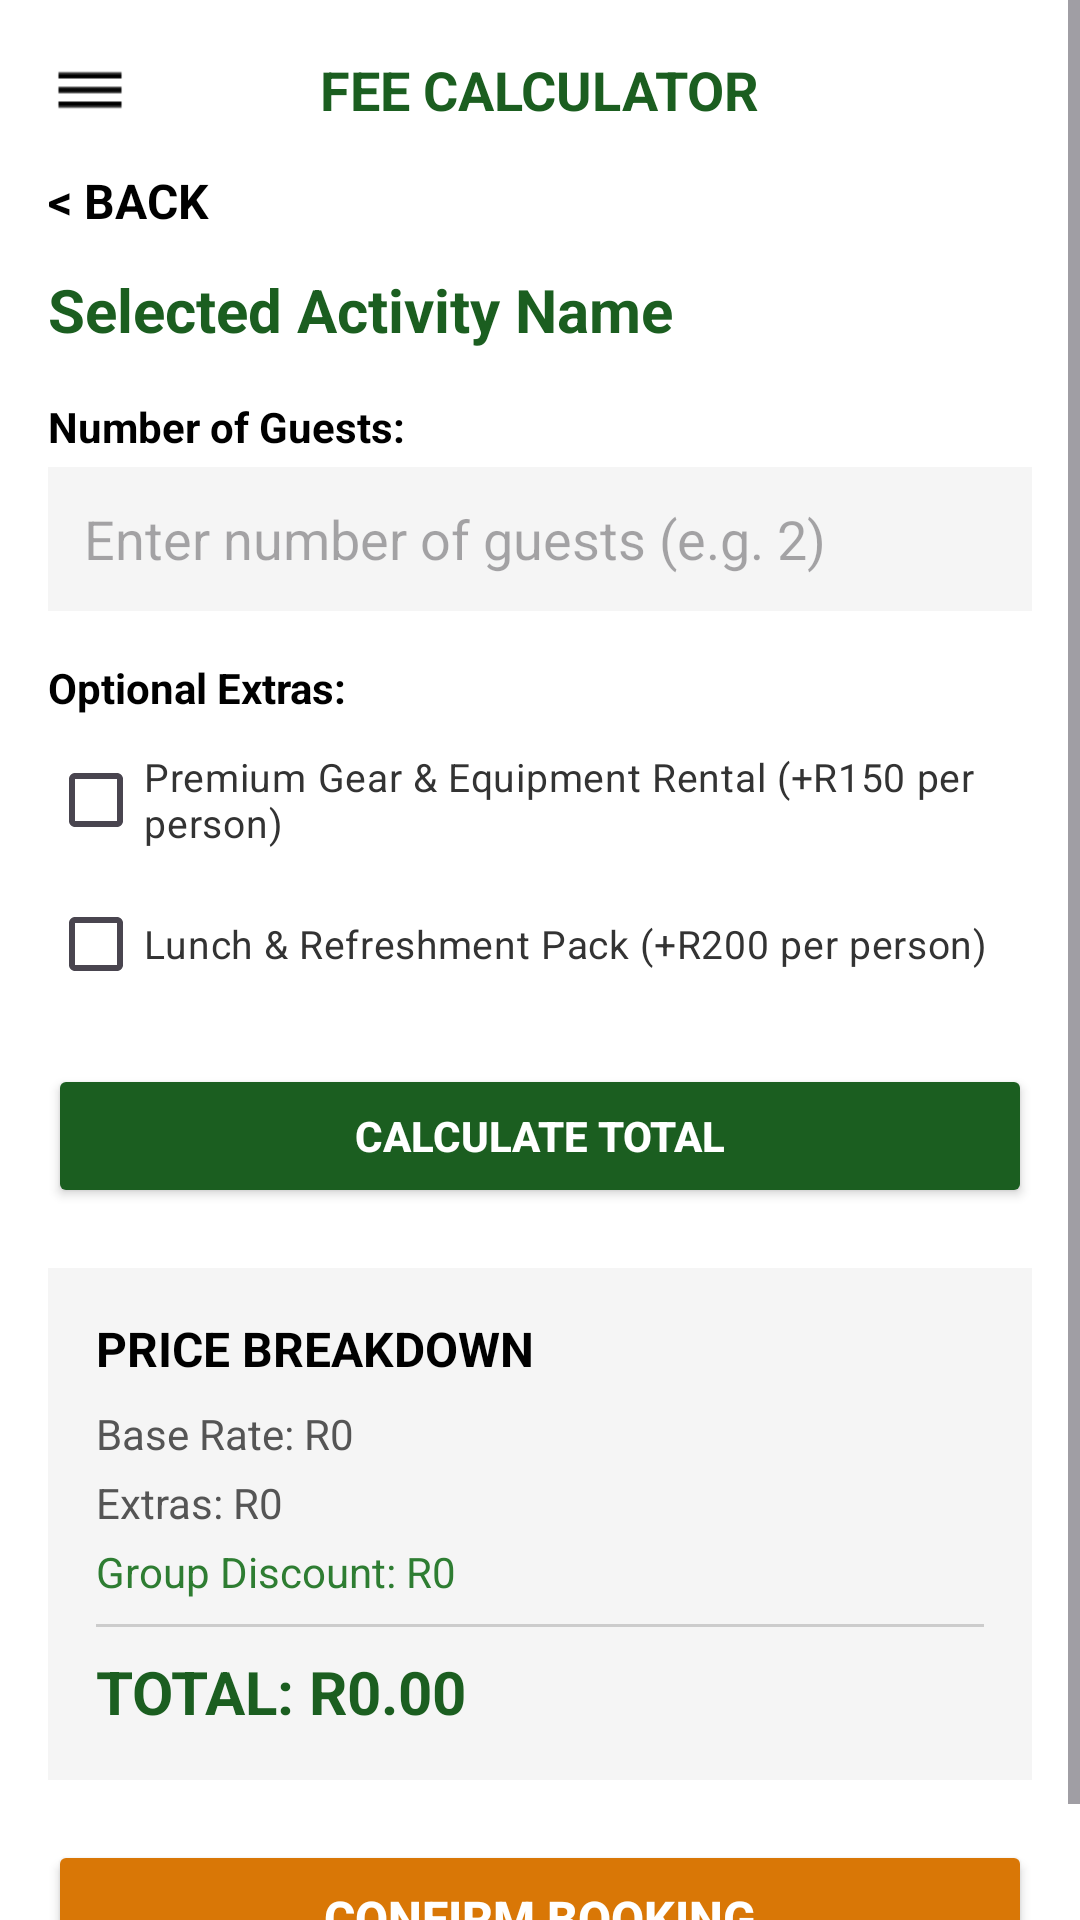

Point at icon controls on the screen. Image size 1080w x 1920h, points as [x,y].
Menu: [90,90]
